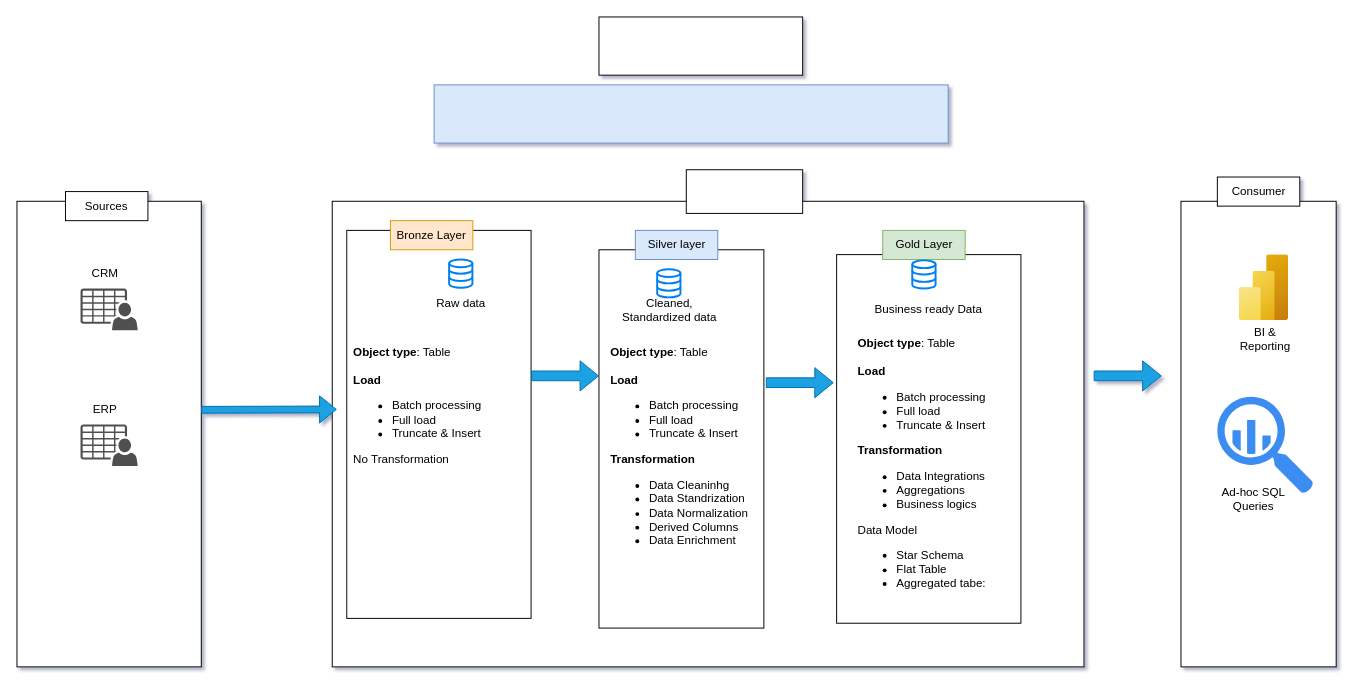
The diagram is 1359 pixels wide and 690 high, and some of its shapes have lost their labels. Here are the shapes that lost their labels. From the top down, the centre of each, then its label:
point 700,45: DR Nkwane
point 690,113: Designing the data architecture
point 744,191: Data Warehouse
